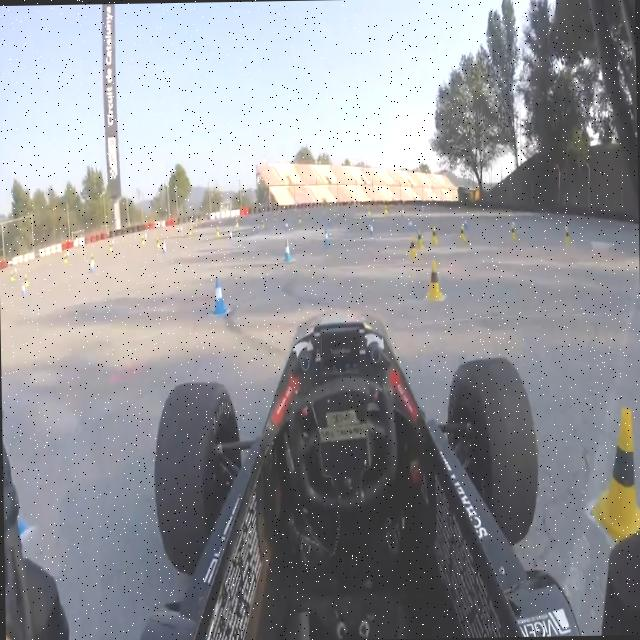blue_cone: (210, 272, 227, 322), (283, 238, 292, 264), (324, 227, 329, 247), (406, 217, 413, 230), (368, 222, 374, 234), (464, 218, 468, 235), (362, 210, 367, 220), (162, 242, 166, 254), (228, 228, 232, 240), (90, 262, 94, 272), (22, 283, 24, 296)
yellow_cone: (588, 391, 640, 540), (426, 257, 442, 304), (407, 235, 417, 262), (564, 222, 572, 246), (431, 224, 438, 247), (417, 229, 423, 251), (459, 224, 465, 242), (24, 272, 30, 288), (510, 224, 515, 242), (214, 226, 220, 240), (155, 237, 161, 249), (383, 203, 388, 216), (140, 236, 144, 248), (64, 252, 68, 264), (10, 272, 14, 284), (260, 218, 264, 229), (90, 252, 94, 258), (298, 213, 300, 224), (110, 242, 112, 252), (368, 208, 370, 218)
